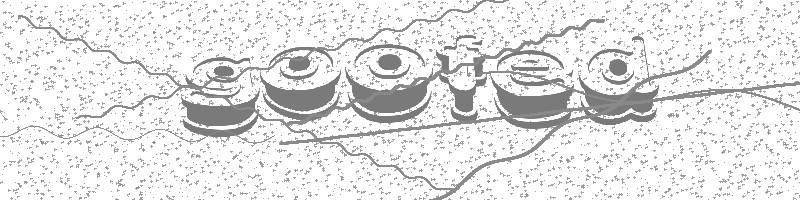d: (576, 29, 664, 127)
e: (489, 45, 574, 133)
f: (434, 26, 488, 125)
g: (170, 47, 267, 140)
o: (343, 39, 434, 121), (258, 48, 344, 124)
